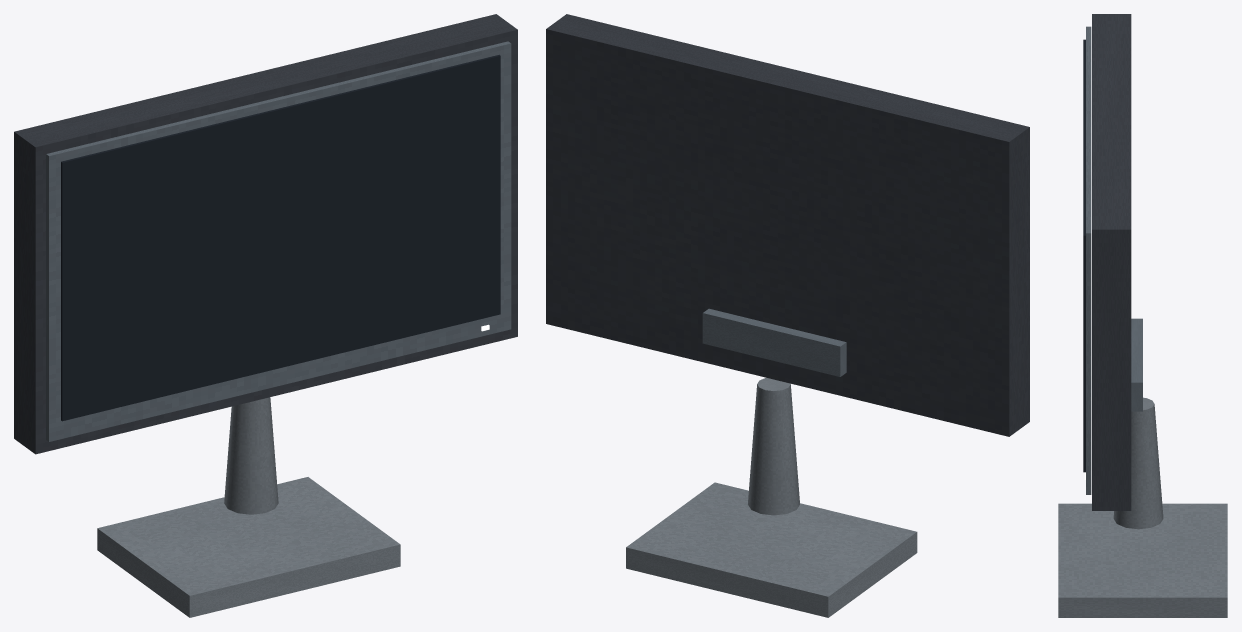
The model's file is monitor_24in01.glb.
3 renders of one model, left to right at view 1: azimuth 30°, elevation 25°; view 2: azimuth 150°, elevation 25°; view 3: azimuth 270°, elevation 25°, orthographic. The views are drawn at different scales.
Parts seen in each view (by area): view 1: panel, shell, base, bezel, stand; view 2: shell, base, stand, ports; view 3: shell, base, stand, bezel, panel, ports.
Part boxes in pixels (x1,y1,x2,y2): panel: [61, 54, 500, 421]; shell: [14, 14, 517, 454]; base: [97, 477, 400, 617]; bezel: [46, 41, 511, 441]; stand: [224, 397, 278, 514]; shell: [546, 14, 1029, 436]; base: [626, 482, 917, 617]; stand: [748, 378, 799, 515]; ports: [702, 308, 846, 376]; shell: [1092, 14, 1131, 510]; base: [1058, 503, 1227, 617]; stand: [1113, 397, 1163, 529]; bezel: [1086, 26, 1091, 494]; panel: [1083, 39, 1085, 472]; ports: [1131, 318, 1142, 411].
Size of the model in its own units: 0.572 by 0.5555 by 0.19.
Materials: 5 (3 with a texture image).
